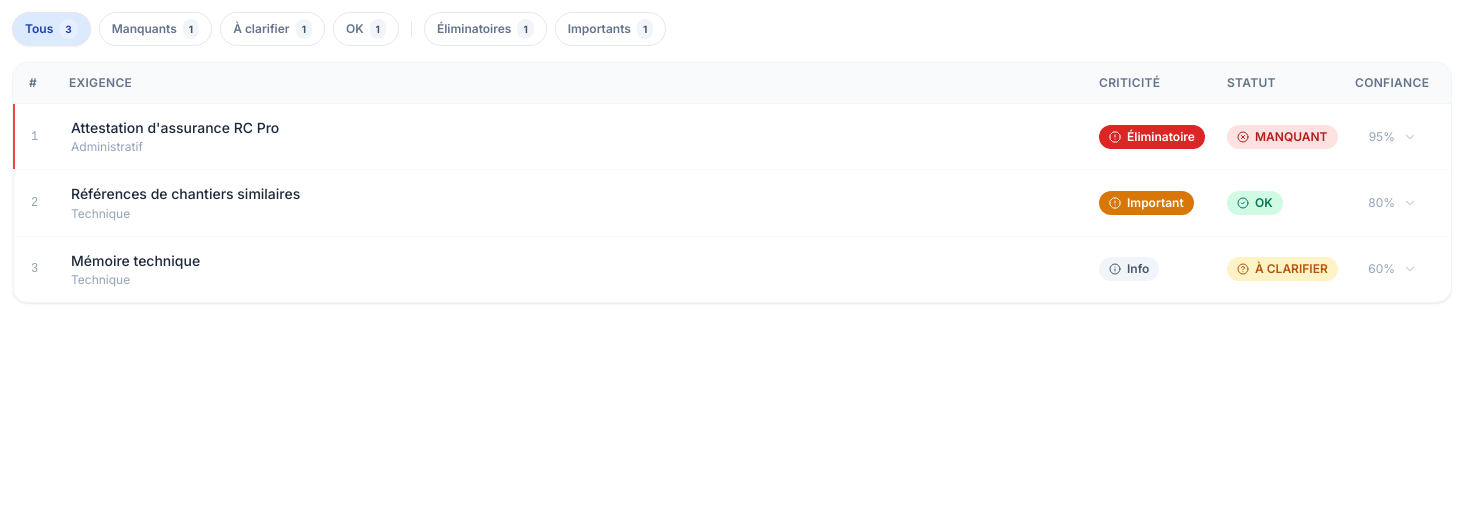
it: ChecklistTab › expands item on click to show details
Click on the first item
Click the text "Attestation d'assurance RC Pro" at (175, 128), box [71,119,279,136]
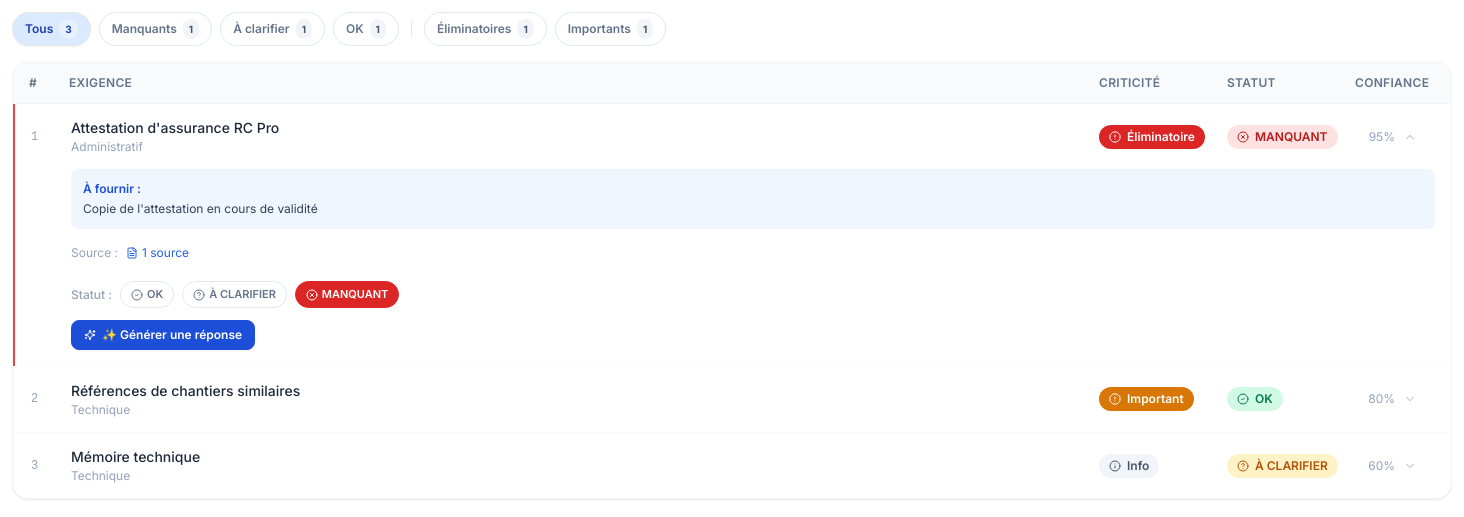
Now the text "À fournir :" is shown, box [83,181,141,196]
Now the text "Copie de l'attestation en cours de validité" is shown, box [83,201,318,216]
